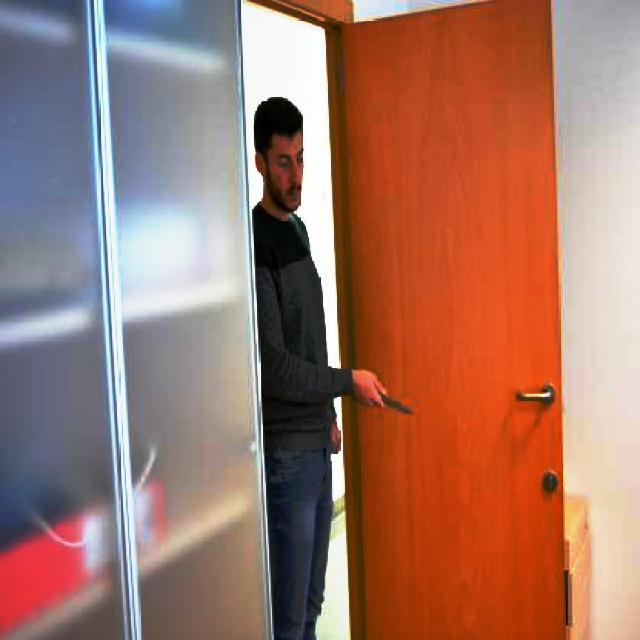Knife: (373, 386, 416, 421)
